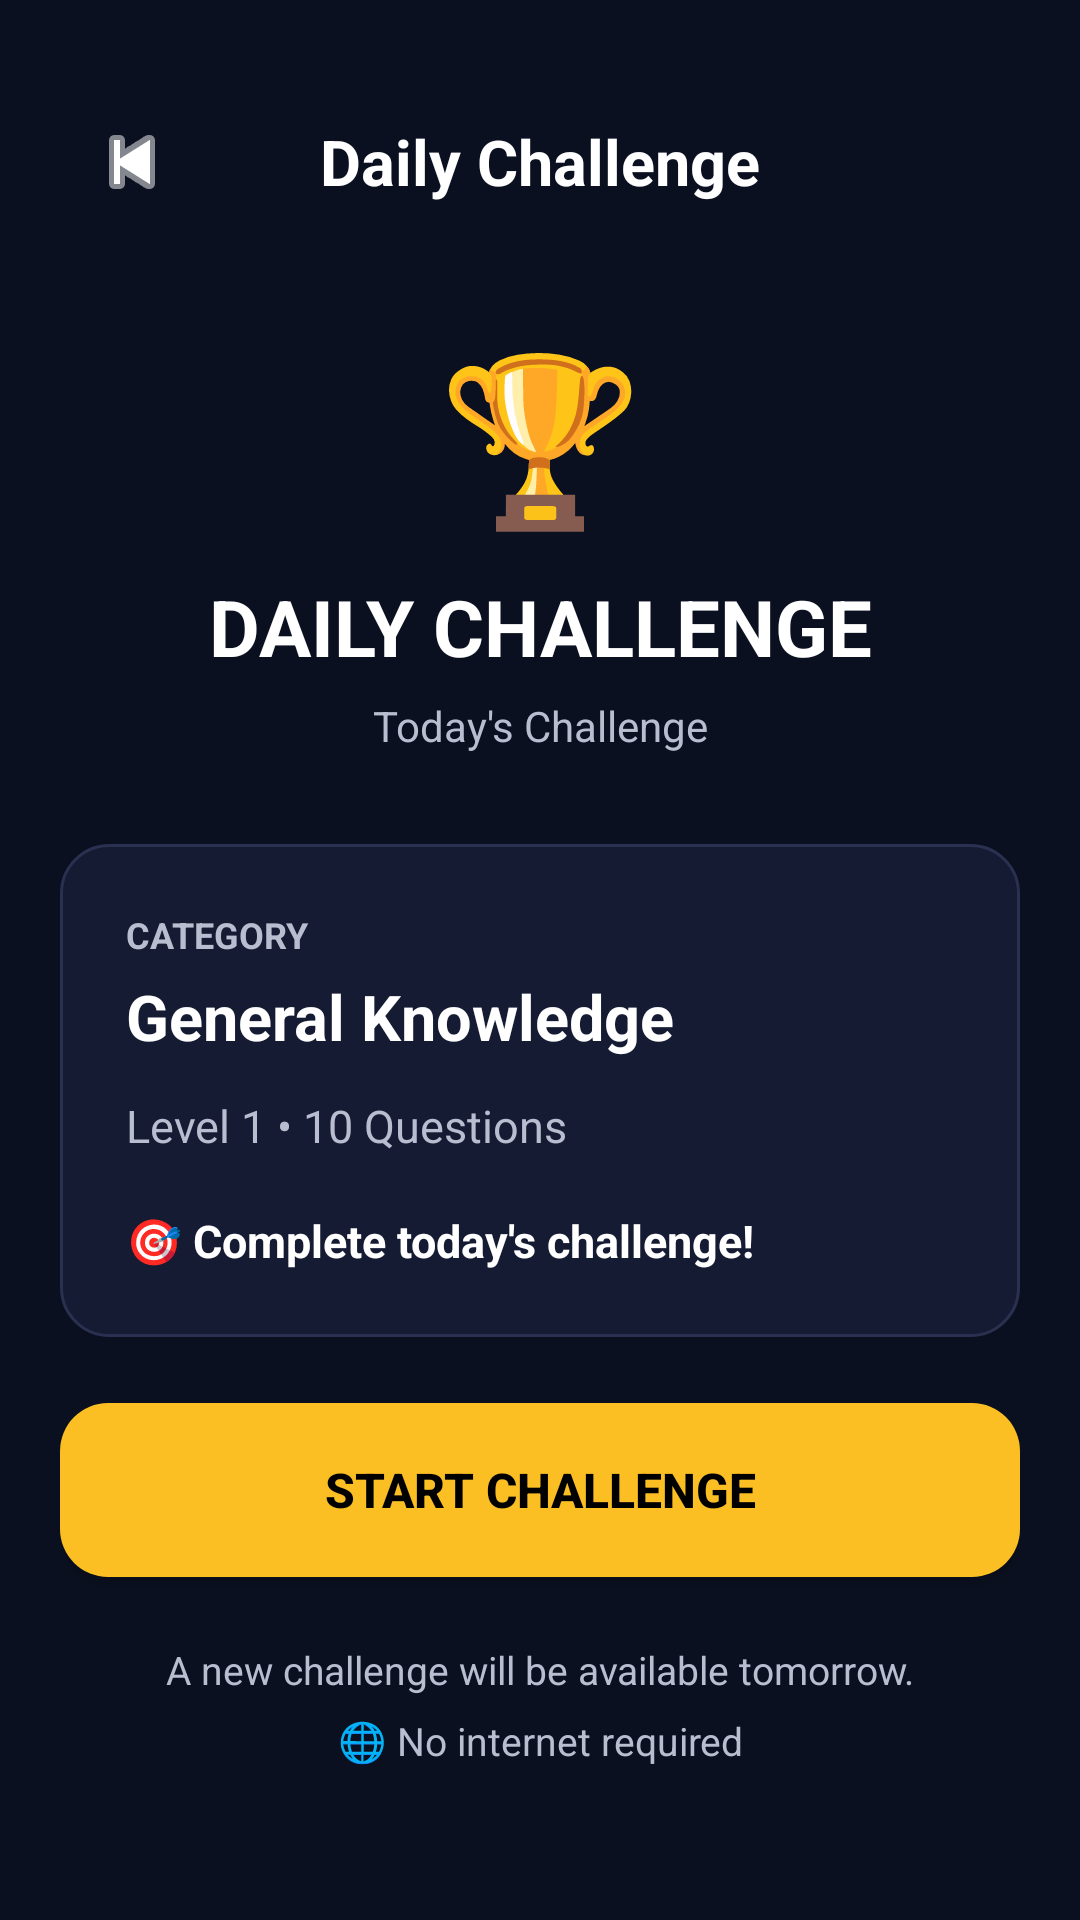

Icons on this 1080x1920 Android screen, each with its box as BBox(x1, y1, x2, y2):
Back: BBox(109, 135, 155, 189)
